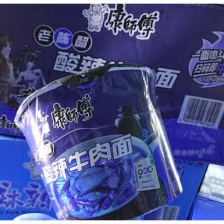paper_cup: (9, 60, 188, 220)
